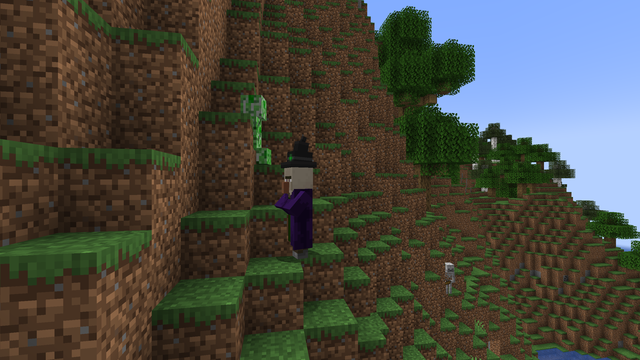creepers: (239, 90, 266, 164)
sorcieres: (283, 163, 313, 260)
squelettes: (445, 262, 455, 295)
